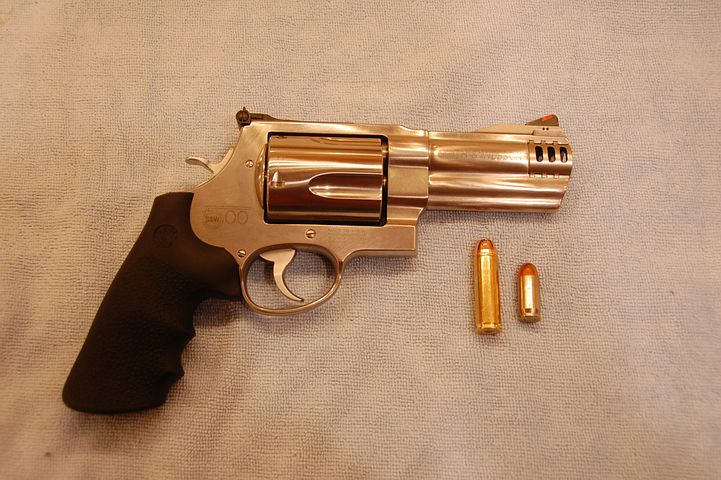gun: (63, 105, 574, 421)
